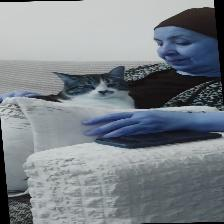kedo: (53, 65, 134, 109)
